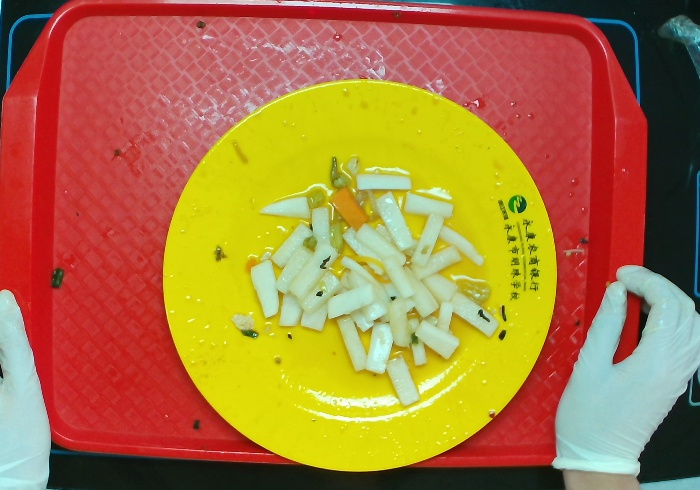YKMZ-Huang_Se_Mian_Pan: (164, 79, 559, 473)
